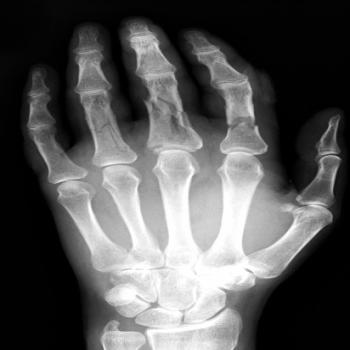Fracture: (139, 91, 194, 143), (76, 98, 130, 140), (210, 115, 270, 136)
